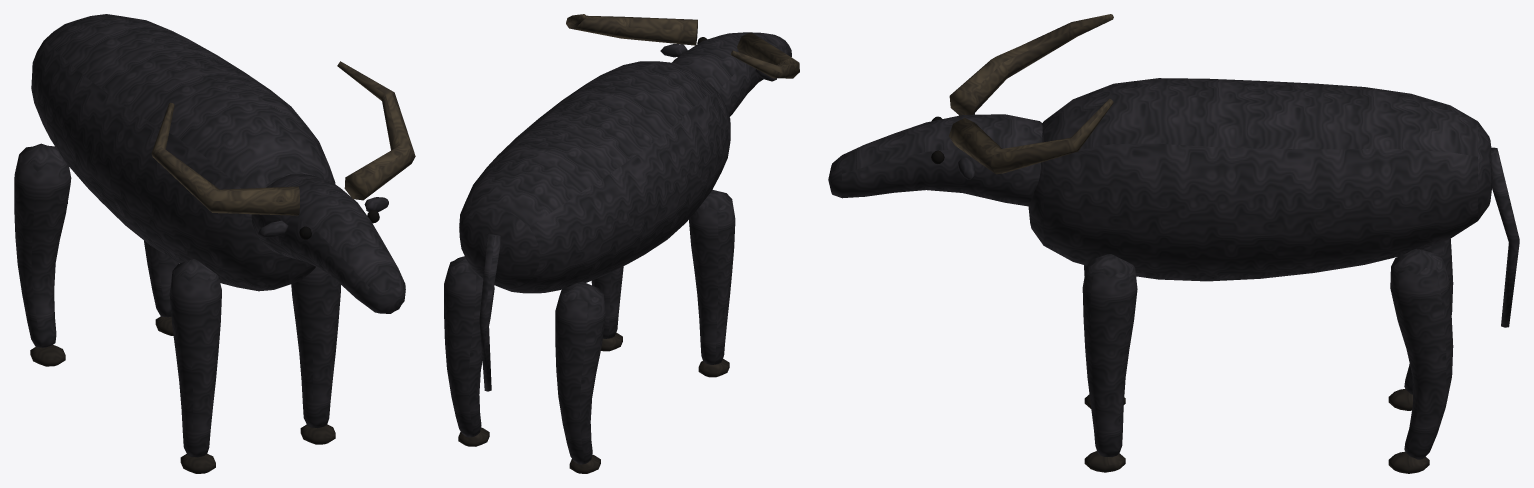
Rendered from animal_water_buffalo.glb.
The picture shows the model from 3 angles, left to right: view 1: azimuth 30°, elevation 25°; view 2: azimuth 150°, elevation 25°; view 3: azimuth 270°, elevation 25°; orthographic projection. The views are drawn at different scales.
Visible parts, largest first — view 1: Body.001, Head.001, Leg_BL.001, Horns.001, Leg_FL.001, Leg_FR.001, Leg_BR.001, Leg_BL_Foot.001, Leg_FL_Foot.001, Leg_FR_Foot.001; view 2: Body.001, Leg_BL.001, Leg_FL.001, Leg_BR.001, Horns.001, Head.001, Tail.001, Leg_FR.001, Leg_FL_Foot.001; view 3: Body.001, Head.001, Leg_BR.001, Leg_FR.001, Horns.001, Tail.001, Leg_BL.001.
Part boxes in pixels (bbox=[...]): Body.001: bbox=[31, 14, 335, 291]; Head.001: bbox=[251, 173, 405, 313]; Leg_BL.001: bbox=[14, 143, 71, 347]; Horns.001: bbox=[151, 61, 415, 215]; Leg_FL.001: bbox=[169, 259, 221, 457]; Leg_FR.001: bbox=[291, 267, 340, 428]; Leg_BR.001: bbox=[144, 240, 179, 317]; Leg_BL_Foot.001: bbox=[30, 345, 65, 366]; Leg_FL_Foot.001: bbox=[180, 453, 215, 473]; Leg_FR_Foot.001: bbox=[300, 424, 335, 444]; Body.001: bbox=[459, 61, 730, 293]; Leg_BL.001: bbox=[555, 281, 605, 464]; Leg_FL.001: bbox=[689, 189, 735, 364]; Leg_BR.001: bbox=[444, 256, 494, 437]; Horns.001: bbox=[566, 14, 799, 78]; Head.001: bbox=[660, 32, 791, 116]; Tail.001: bbox=[479, 233, 500, 391]; Leg_FR.001: bbox=[591, 266, 623, 338]; Leg_FL_Foot.001: bbox=[698, 358, 729, 377]; Body.001: bbox=[1028, 78, 1493, 281]; Head.001: bbox=[828, 113, 1042, 206]; Leg_BR.001: bbox=[1390, 249, 1453, 459]; Leg_FR.001: bbox=[1082, 254, 1137, 457]; Horns.001: bbox=[949, 14, 1113, 174]; Tail.001: bbox=[1491, 147, 1519, 327]; Leg_BL.001: bbox=[1404, 239, 1453, 394].
Bounding box in the file's own units: 0.9293 × 1.36 × 2.23.
4 materials, 4 textured.
